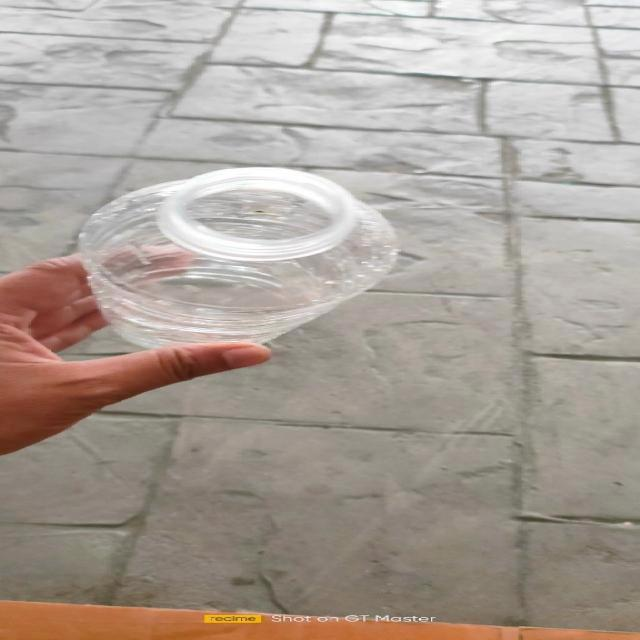bottle: (80, 167, 400, 351)
